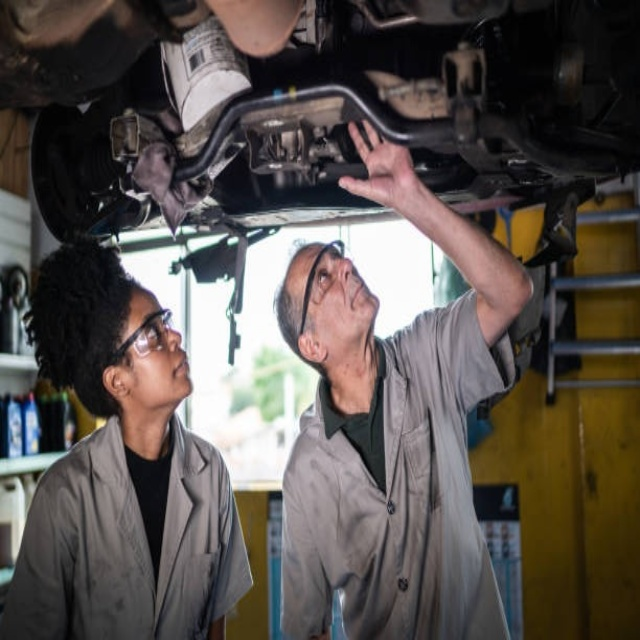Gafas: (300, 241, 344, 337), (107, 308, 173, 365)
Sin_guantes: (336, 113, 413, 207)
Sin_mascara: (164, 347, 196, 392), (350, 273, 379, 317)
